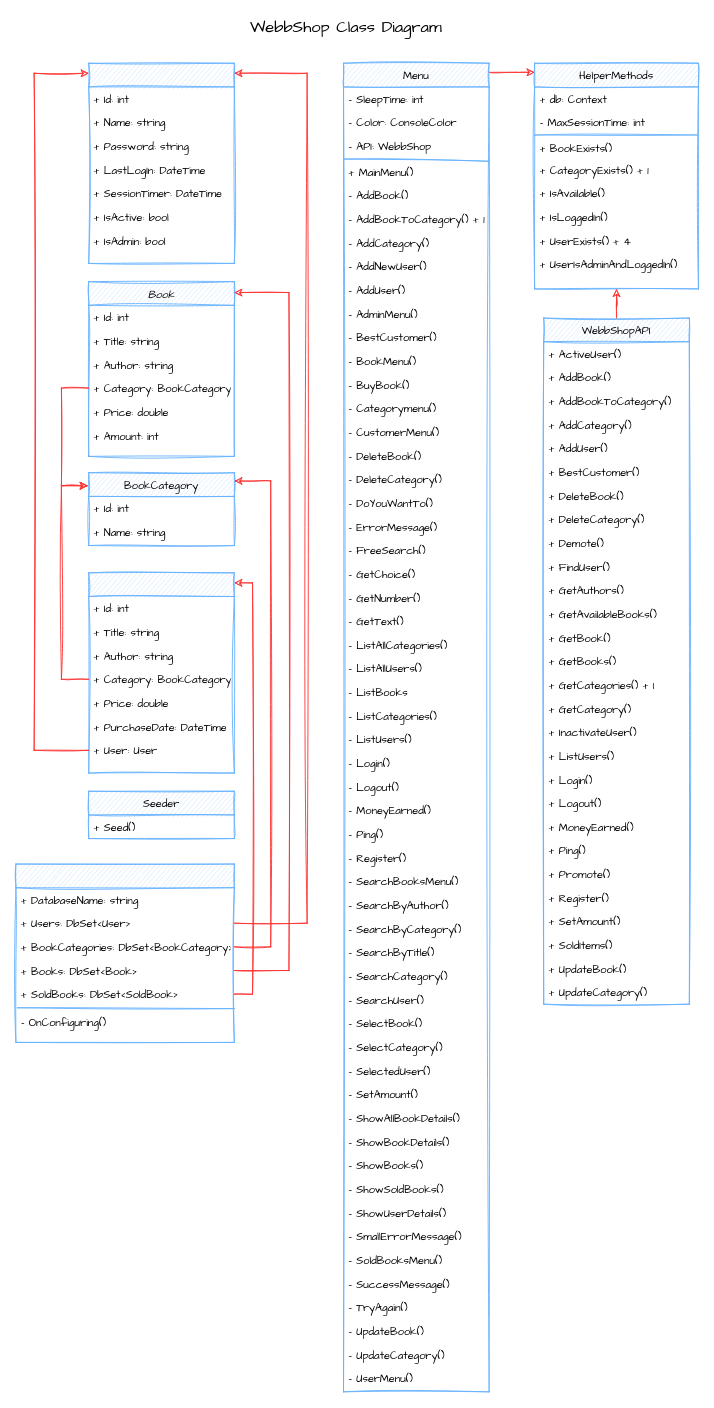
Some shapes in this 714 by 1408 pixel diagram are drawn without their labels. The shapes that lost their labels are listed below. From the top down, each one's box as (x1, y1, x2, y2) in pixels, then its label:
(88, 62, 234, 263): User
(88, 572, 234, 773): SoldBook
(15, 863, 234, 1042): Context
